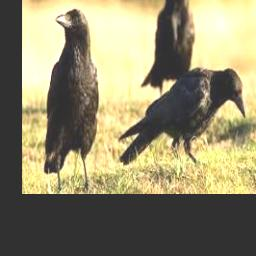Crow: (118, 66, 246, 167), (44, 8, 99, 192), (141, 0, 194, 98)
